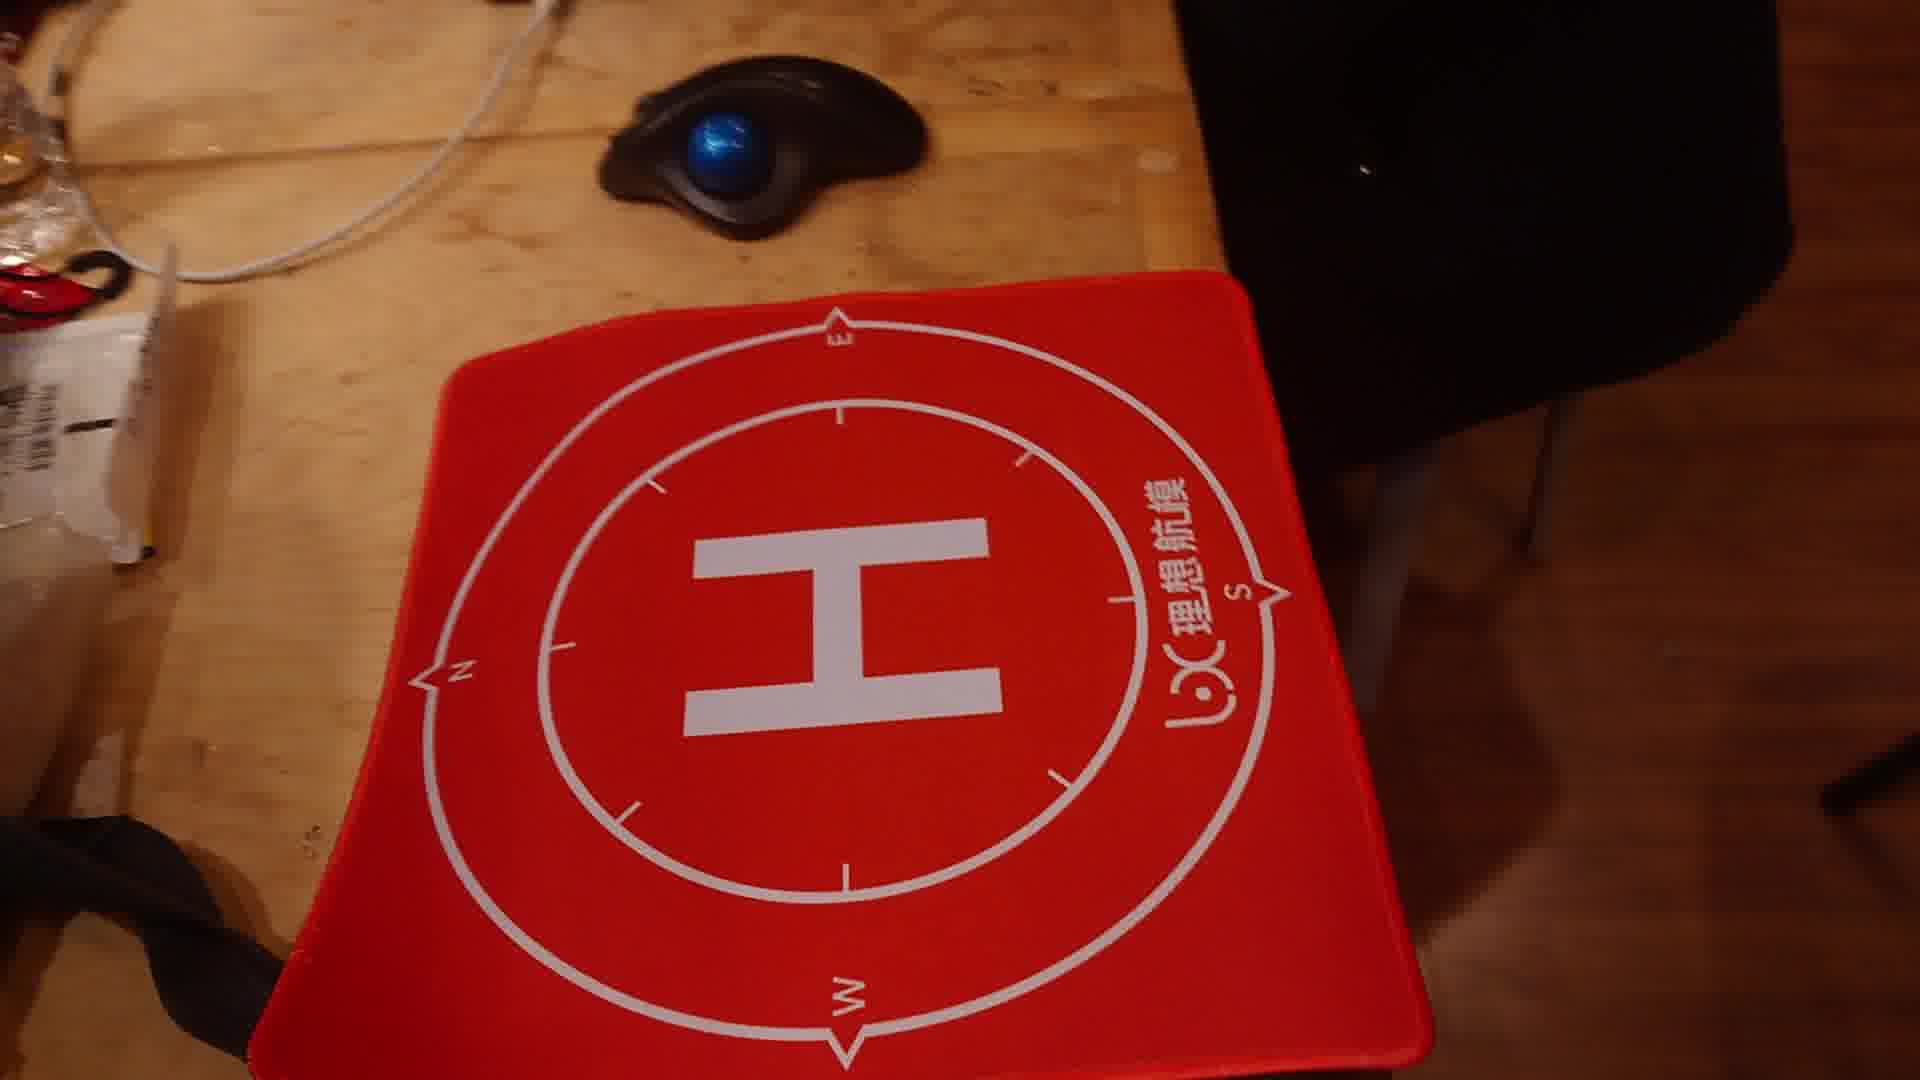H: (678, 516, 1007, 738)
